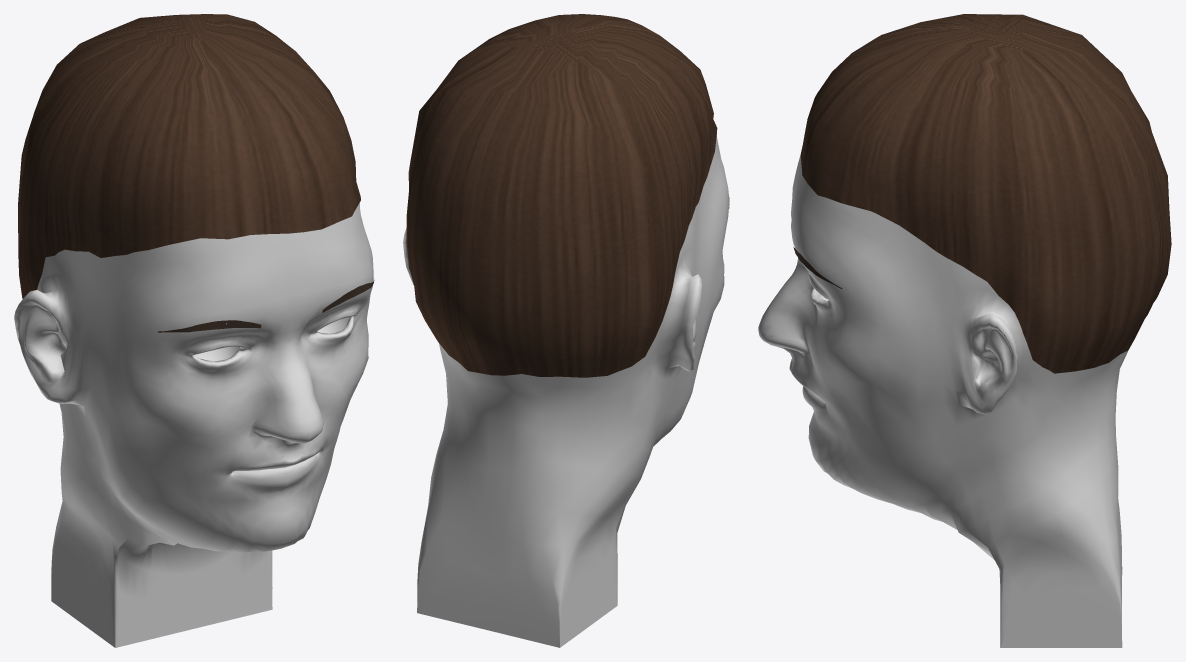
Rendered from starter-head.glb.
The picture shows the model from 3 angles, left to right: view 1: azimuth 30°, elevation 25°; view 2: azimuth 150°, elevation 25°; view 3: azimuth 270°, elevation 25°; orthographic projection. The views are drawn at different scales.
Visible parts, largest first — view 1: Starter head, Close-cropped scalp, Tapered eyebrow profiles; view 2: Close-cropped scalp, Starter head; view 3: Starter head, Close-cropped scalp.
Boxes of the visible parts, <box> form: Starter head: <box>14,203,373,647</box>; Close-cropped scalp: <box>18,14,360,298</box>; Tapered eyebrow profiles: <box>158,280,374,332</box>; Close-cropped scalp: <box>406,14,717,377</box>; Starter head: <box>403,135,728,647</box>; Starter head: <box>758,155,1127,647</box>; Close-cropped scalp: <box>800,14,1171,373</box>.
Bounding box in the file's own units: 0.182 × 0.3233 × 0.2101.
3 materials, 1 textured.
